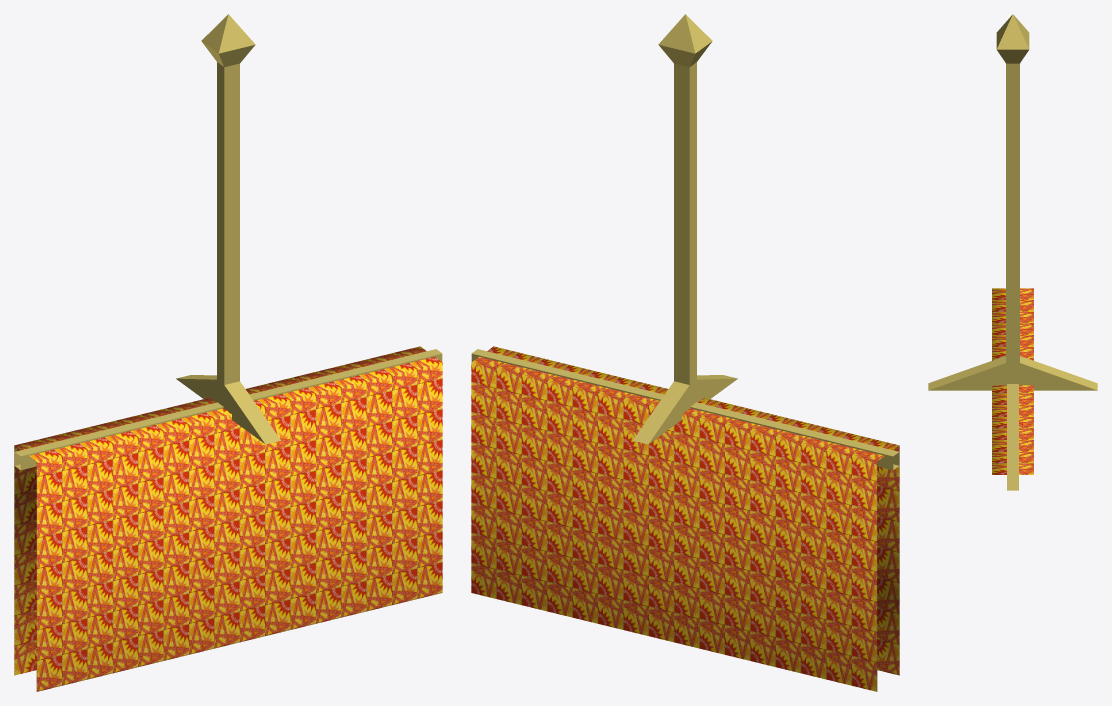
The model's file is 4666floor_r.gltf.
3 renders of one model, left to right at view 1: azimuth 30°, elevation 25°; view 2: azimuth 150°, elevation 25°; view 3: azimuth 270°, elevation 25°, orthographic. The views are drawn at different scales.
Visible parts, largest first — view 1: 4666floor_r; view 2: 4666floor_r; view 3: 4666floor_r.
Boxes of the visible parts, x1,y1,x2,y2 form: 4666floor_r: (14, 14, 442, 691); 4666floor_r: (471, 14, 899, 691); 4666floor_r: (928, 14, 1097, 490).
Size of the model in its own units: 1.59 by 2.23 by 0.5869.
Materials: 2 (1 with a texture image).
